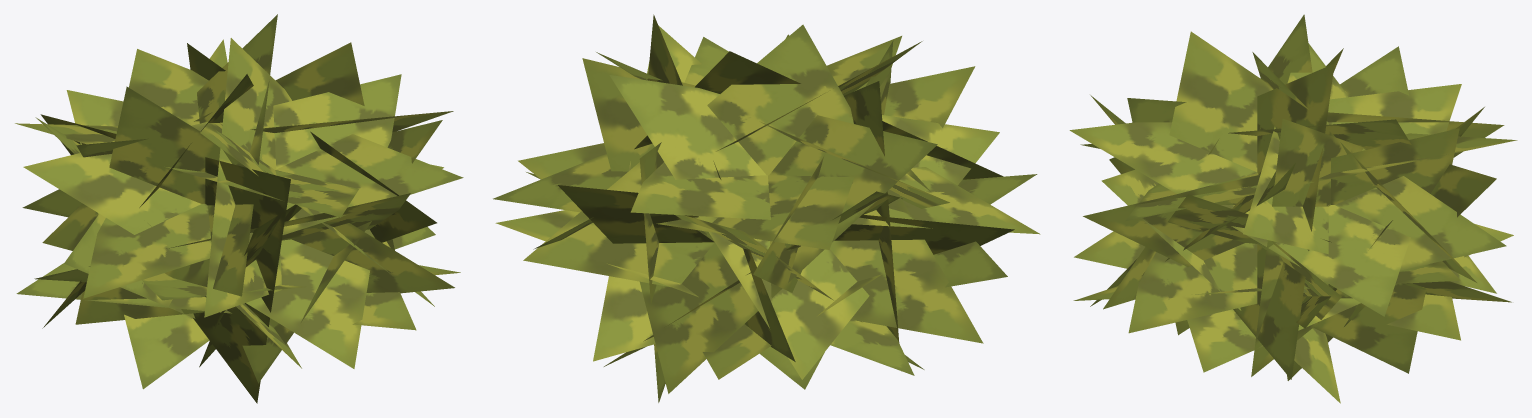
The model's file is Moss_Fern_Blob_1.glb.
The picture shows the model from 3 angles, left to right: view 1: azimuth 30°, elevation 25°; view 2: azimuth 150°, elevation 25°; view 3: azimuth 270°, elevation 25°; orthographic projection. The views are drawn at different scales.
Parts seen in each view (by area): view 1: Moss_Fern_Blob_1; view 2: Moss_Fern_Blob_1; view 3: Moss_Fern_Blob_1.
Boxes of the visible parts, box(x1,y1,x2,y2) form: Moss_Fern_Blob_1: box(15, 14, 463, 403); Moss_Fern_Blob_1: box(493, 14, 1040, 402); Moss_Fern_Blob_1: box(1069, 14, 1517, 403).
Size of the model in its own units: 0.7036 by 0.4857 by 0.6458.
Materials: 1 (1 with a texture image).
